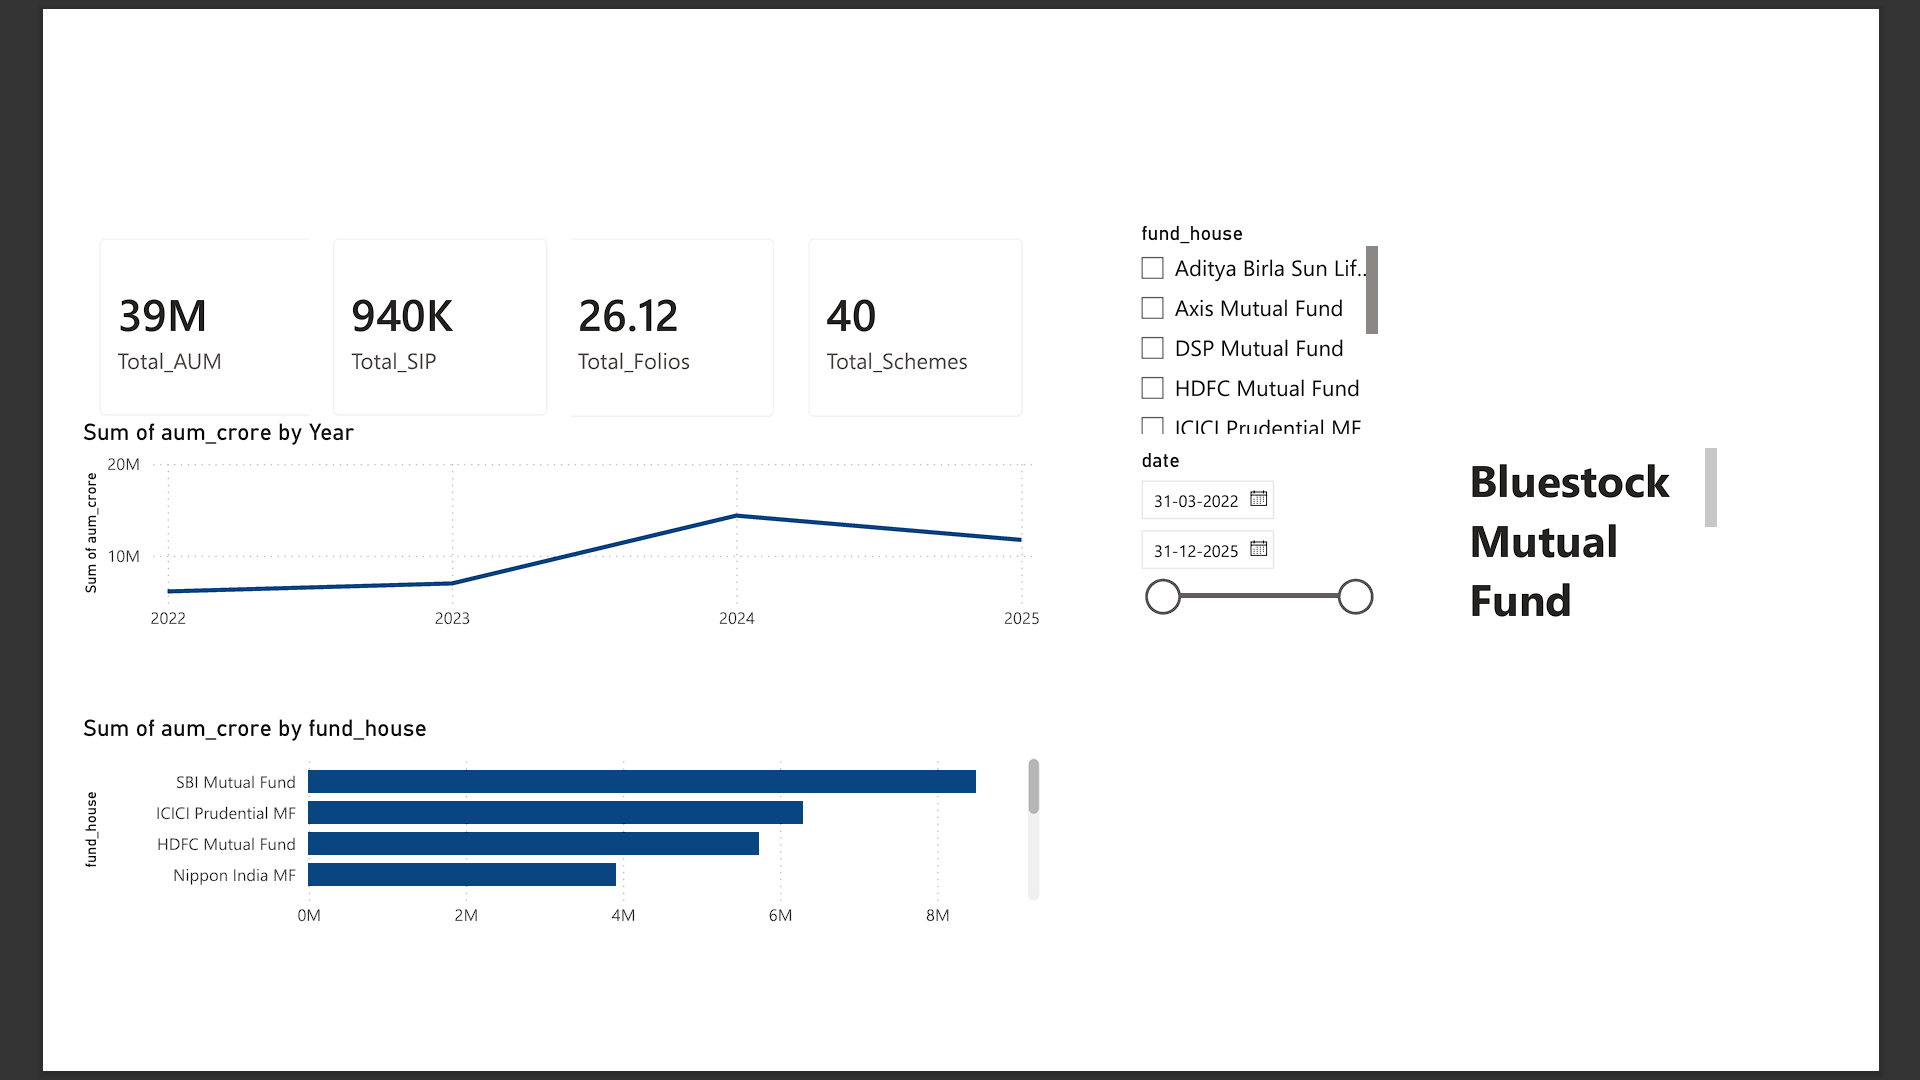

Layout of this report page (visuals, bound fields, positions):
{"tool":"powerbi","page":{"name":"Industry Overview","canvas":[1280,720],"ordinal":0},"visuals":[{"type":"cardVisual","fields":{"Data":["aum_clean.Total_AUM"]},"box":[0,124.5,189.1,162.7],"z":0},{"type":"cardVisual","fields":{"Data":["aum_clean.Total_Folios"]},"box":[332.7,124.5,189.1,163.6],"z":1},{"type":"cardVisual","fields":{"Data":["aum_clean.Total_Schemes"]},"box":[512.7,124.5,189.1,163.6],"z":2},{"type":"cardVisual","fields":{"Data":["aum_clean.Total_SIP"]},"box":[169.1,124.5,189.1,162.7],"z":3},{"type":"lineChart","fields":{"Category":["aum_clean.date.Variation.Date Hierarchy.Year","aum_clean.date.Variation.Date Hierarchy.Quarter","aum_clean.date.Variation.Date Hierarchy.Month","aum_clean.date.Variation.Date Hierarchy.Day"],"Y":["Sum(aum_clean.aum_crore)"]},"box":[0,271.8,701.8,163.6],"z":4},{"type":"clusteredBarChart","fields":{"Category":["aum_clean.fund_house"],"Y":["Sum(aum_clean.aum_crore)"]},"box":[0,486,702,164],"z":5},{"type":"slicer","fields":{"Values":["aum_clean.fund_house"]},"box":[757.5,125,189,164],"z":6},{"type":"slicer","fields":{"Values":["aum_clean.date"]},"box":[758,289,189,150],"z":7},{"type":"textbox","box":[1002.5,125,189,164],"z":8},{"type":"textbox","box":[1003,289,189,150],"z":9}]}

Visuals, with their boxes in screenshot pixels (x1, y1, x2, y2), scaled from the page's 1280x720 canvas onto the 1920x1080 screenshot:
cardVisual - aum_clean.Total_AUM: <bbox>0, 187, 284, 431</bbox>
cardVisual - aum_clean.Total_Folios: <bbox>499, 187, 783, 432</bbox>
cardVisual - aum_clean.Total_Schemes: <bbox>769, 187, 1053, 432</bbox>
cardVisual - aum_clean.Total_SIP: <bbox>254, 187, 537, 431</bbox>
lineChart - aum_clean.date.Variation.Date Hierarchy.Year x aum_clean.date.Variation.Date Hierarchy.Quarter: <bbox>0, 408, 1053, 653</bbox>
clusteredBarChart - aum_clean.fund_house x Sum(aum_clean.aum_crore): <bbox>0, 729, 1053, 975</bbox>
slicer - aum_clean.fund_house: <bbox>1136, 188, 1420, 434</bbox>
slicer - aum_clean.date: <bbox>1137, 434, 1420, 658</bbox>
textbox: <bbox>1504, 188, 1787, 434</bbox>
textbox: <bbox>1504, 434, 1788, 658</bbox>
